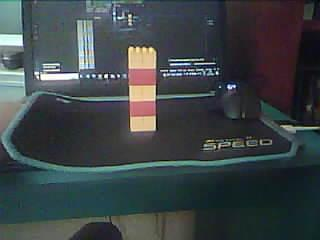lego: (127, 46, 157, 132)
